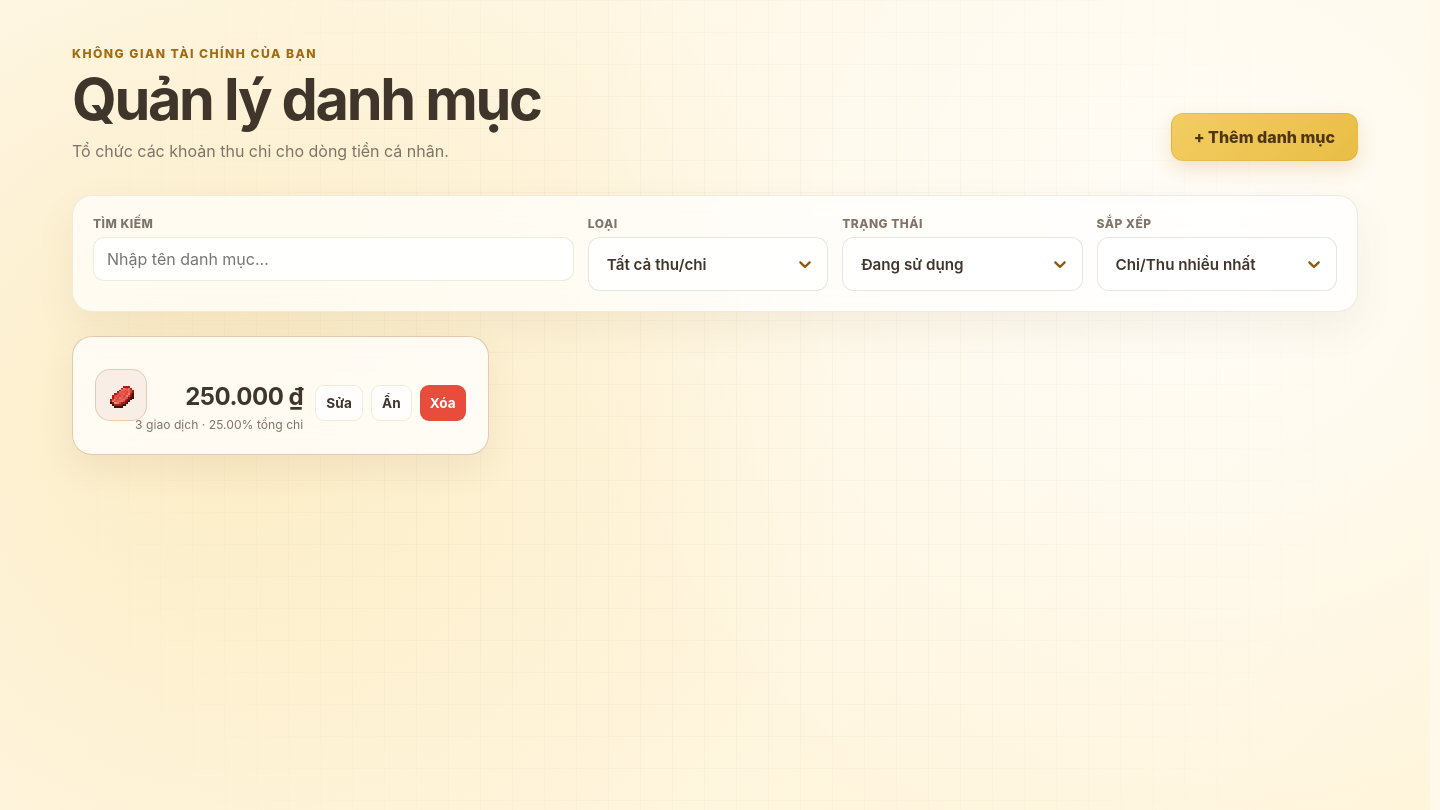
Test: Categories page › opens an edit form populated from the selected card
Click the button "Sửa". click: (339, 404)
box: 315,386 -> 363,422
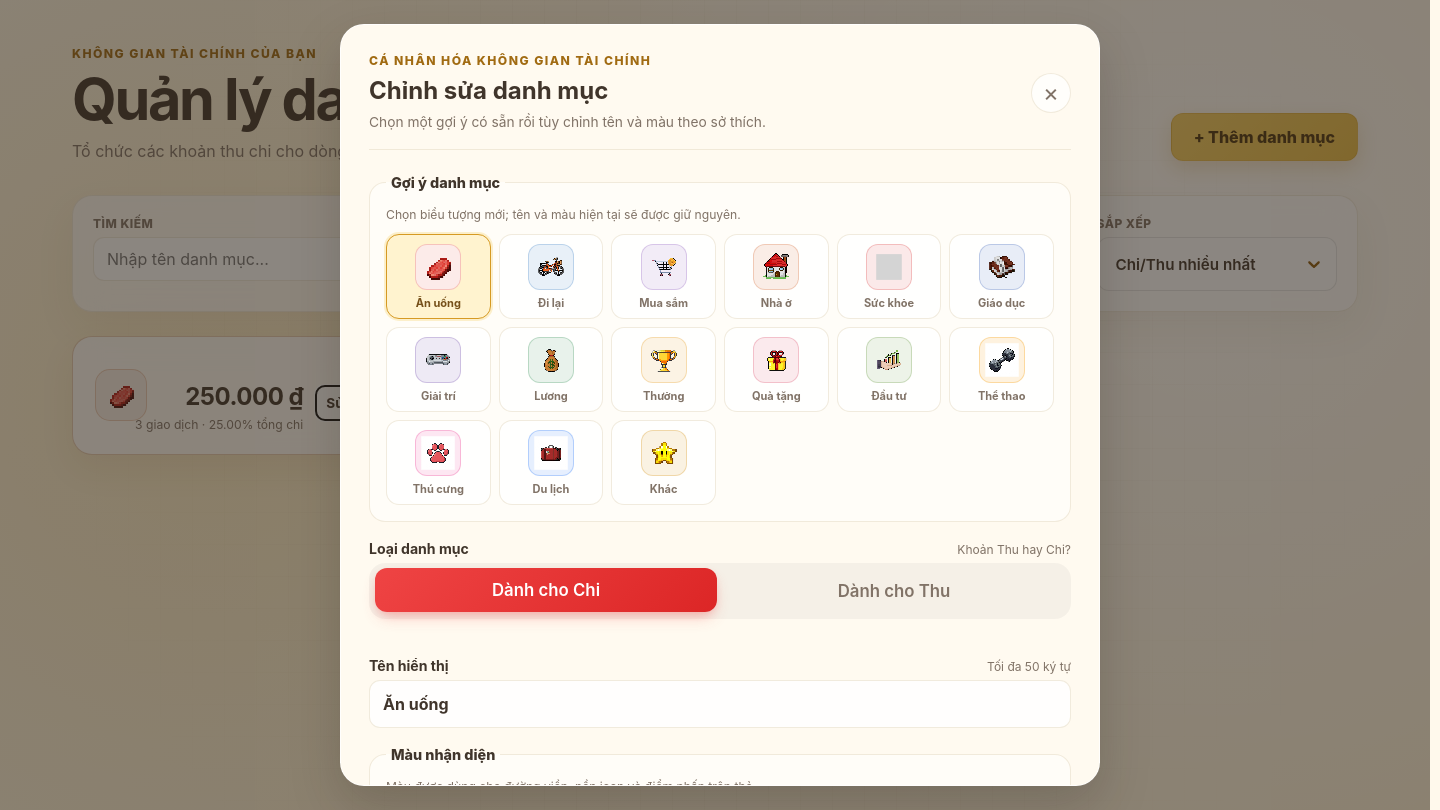
Now the dialog is shown, box 340,24 -> 1100,786
Now the heading "Chỉnh sửa danh mục" is shown, box 369,76 -> 608,105
Now the field labelled "Tên hiển thị" holds "Ăn uống", box 369,680 -> 1071,728
